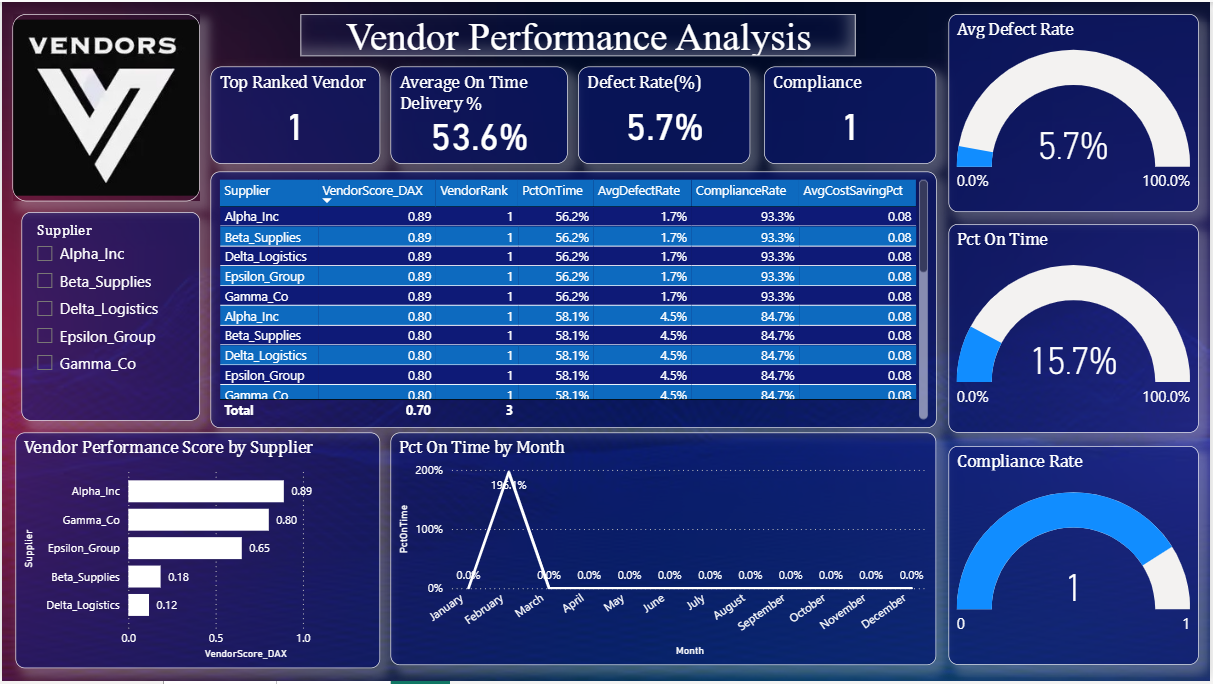

The page's visual inventory and layout, read from the dashboard file:
{"tool":"powerbi","page":{"name":"Page 1","canvas":[1280,720],"ordinal":0},"visuals":[{"type":"card","title":"Top Ranked Vendor","fields":{"Values":["clean_vendor_data.VendorRank"]},"box":[221.1,68.4,179.7,103.4],"z":0},{"type":"card","title":"Average On Time Delivery %","fields":{"Values":["vendor_summary.Avg_OnTime_Pct"]},"box":[412,68.4,187.7,103.4],"z":1000},{"type":"card","title":"Defect Rate(%)","fields":{"Values":["clean_vendor_data.AvgDefectRate"]},"box":[610.8,68.4,182.9,103.4],"z":2000},{"type":"card","title":"Compliance ","fields":{"Values":["clean_vendor_data.ComplianceRate"]},"box":[808,68.4,182.9,103.4],"z":3000},{"type":"tableEx","fields":{"Values":["clean_vendor_data.Supplier","vendor_summary.VendorScore_DAX","clean_vendor_data.VendorRank","vendor_summary.PctOnTime","vendor_summary.AvgDefectRate","vendor_summary.ComplianceRate","vendor_summary.AvgCostSavingPct"]},"box":[221.1,179.7,769.9,272],"z":4000},{"type":"clusteredBarChart","title":"Vendor Performance Score by Supplier","fields":{"Category":["vendor_summary.Supplier"],"Y":["vendor_summary.VendorScore_DAX"]},"box":[14.3,456.5,386.5,249.7],"z":5000},{"type":"lineChart","title":"Pct On Time by Month","fields":{"Category":["clean_vendor_data.Delivery_Date.Variation.Date Hierarchy.Month"],"Y":["clean_vendor_data.PctOnTime"]},"box":[412,456.5,579,246.5],"z":6000},{"type":"gauge","title":"Pct On Time","fields":{"Y":["clean_vendor_data.PctOnTime"]},"box":[1003.7,235.4,265.6,221.1],"z":7000},{"type":"gauge","title":"Avg Defect Rate","fields":{"Y":["clean_vendor_data.AvgDefectRate"]},"box":[1003.7,12.7,265.6,210],"z":8000},{"type":"gauge","title":"Compliance Rate","fields":{"Y":["clean_vendor_data.ComplianceRate"]},"box":[1003.7,470.8,265.6,232.2],"z":9000},{"type":"slicer","fields":{"Values":["clean_vendor_data.Supplier"]},"box":[20.7,222.7,189.3,221.1],"z":10000},{"type":"textbox","box":[81.1,76.3,47.7,42.9],"z":11000},{"type":"image","box":[11.1,12.7,198.8,198.8],"z":12000},{"type":"textbox","title":"Vendor Performance Analysis","box":[316.5,12.7,588.5,44.5],"z":13000}]}

Visuals, with their boxes in screenshot pixels (x1, y1, x2, y2), scaled from the page's 1280x720 canvas onto the 1213x684 screenshot:
"Top Ranked Vendor" card: box(210, 65, 380, 163)
"Average On Time Delivery %" card: box(390, 65, 568, 163)
"Defect Rate(%)" card: box(579, 65, 752, 163)
"Compliance " card: box(766, 65, 939, 163)
tableEx - clean_vendor_data.Supplier x vendor_summary.VendorScore_DAX: box(210, 171, 939, 429)
"Vendor Performance Score by Supplier" clusteredBarChart: box(14, 434, 380, 671)
"Pct On Time by Month" lineChart: box(390, 434, 939, 668)
"Pct On Time" gauge: box(951, 224, 1203, 434)
"Avg Defect Rate" gauge: box(951, 12, 1203, 212)
"Compliance Rate" gauge: box(951, 447, 1203, 668)
slicer - clean_vendor_data.Supplier: box(20, 212, 199, 422)
textbox: box(77, 72, 122, 113)
image: box(11, 12, 199, 201)
"Vendor Performance Analysis" textbox: box(300, 12, 858, 54)
